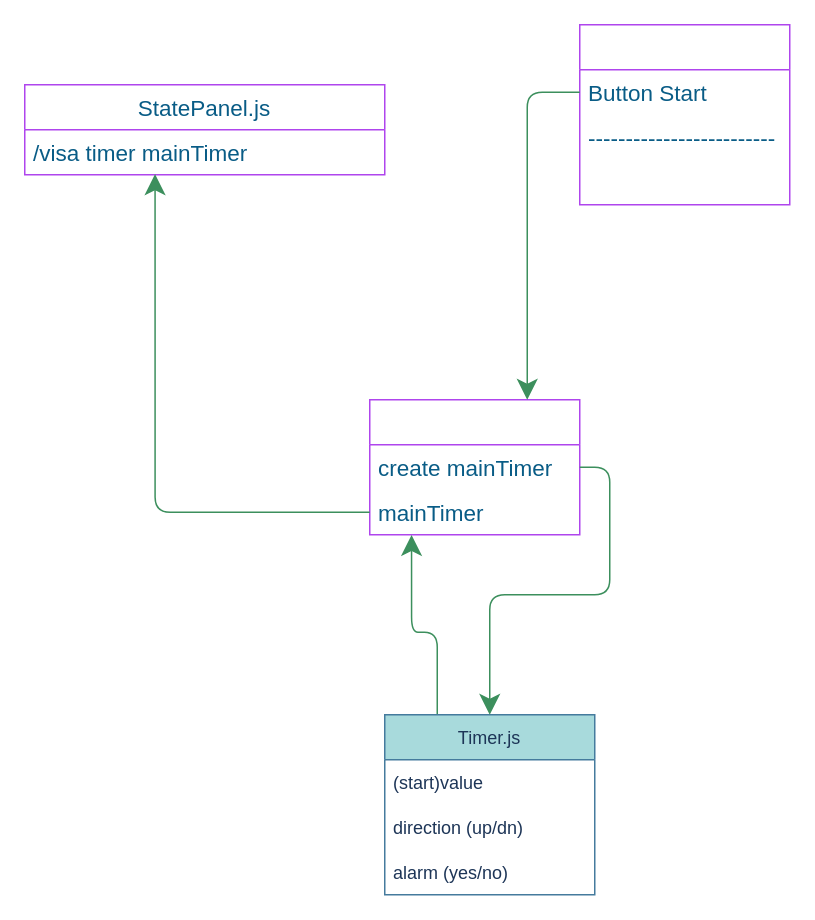
Image size: 815x920. Some labels were removed from this diagram. The box of each missing label's shape, as (x1, y1, x2, y2) in pixels:
App.js: (578, 23, 790, 205)
CountUp.js: (368, 398, 580, 535)
